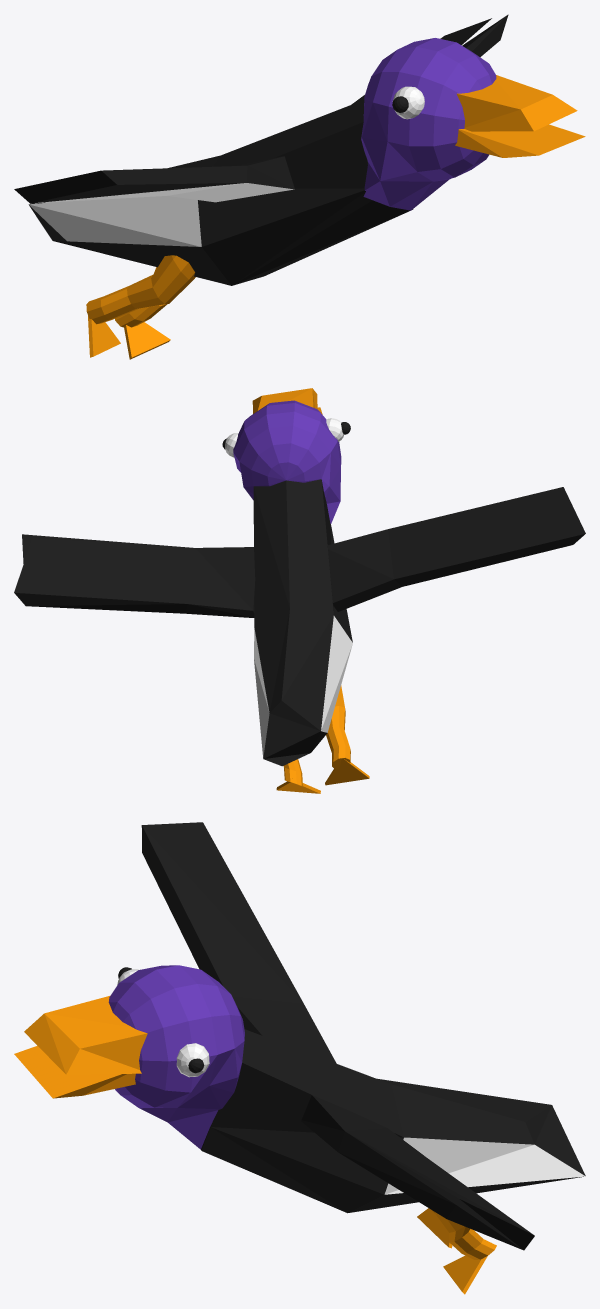
File: Duck.obj
The picture shows the model from 3 angles, top to bottom: view 1: azimuth 30°, elevation 25°; view 2: azimuth 150°, elevation 25°; view 3: azimuth 270°, elevation 25°; orthographic projection. The views are drawn at different scales.
Visible parts, largest first — view 1: group1099839163, group1692059423, group670811835, group1484828750, group361199585, group1322903102, group609062969; view 2: group1099839163, group609062969, group1692059423, group1484828750, group670811835, group1322903102; view 3: group1099839163, group1692059423, group609062969, group670811835, group361199585, group1322903102.
Boxes of the visible parts, x1,y1,x2,y2 form: group1099839163: [28, 38, 496, 285]; group1692059423: [14, 156, 294, 203]; group670811835: [457, 75, 577, 131]; group1484828750: [86, 255, 195, 357]; group361199585: [455, 124, 585, 157]; group1322903102: [115, 267, 170, 359]; group609062969: [351, 14, 508, 104]; group1099839163: [225, 400, 352, 766]; group609062969: [14, 534, 255, 617]; group1692059423: [327, 487, 585, 611]; group1484828750: [325, 685, 369, 785]; group670811835: [252, 388, 317, 413]; group1322903102: [276, 759, 320, 793]; group1099839163: [108, 965, 585, 1213]; group1692059423: [141, 822, 336, 1063]; group609062969: [301, 1095, 534, 1250]; group670811835: [24, 996, 147, 1074]; group361199585: [14, 1045, 135, 1098]; group1322903102: [431, 1209, 496, 1294].
Size of the model in its own units: 1.2 by 0.686 by 0.9163.
